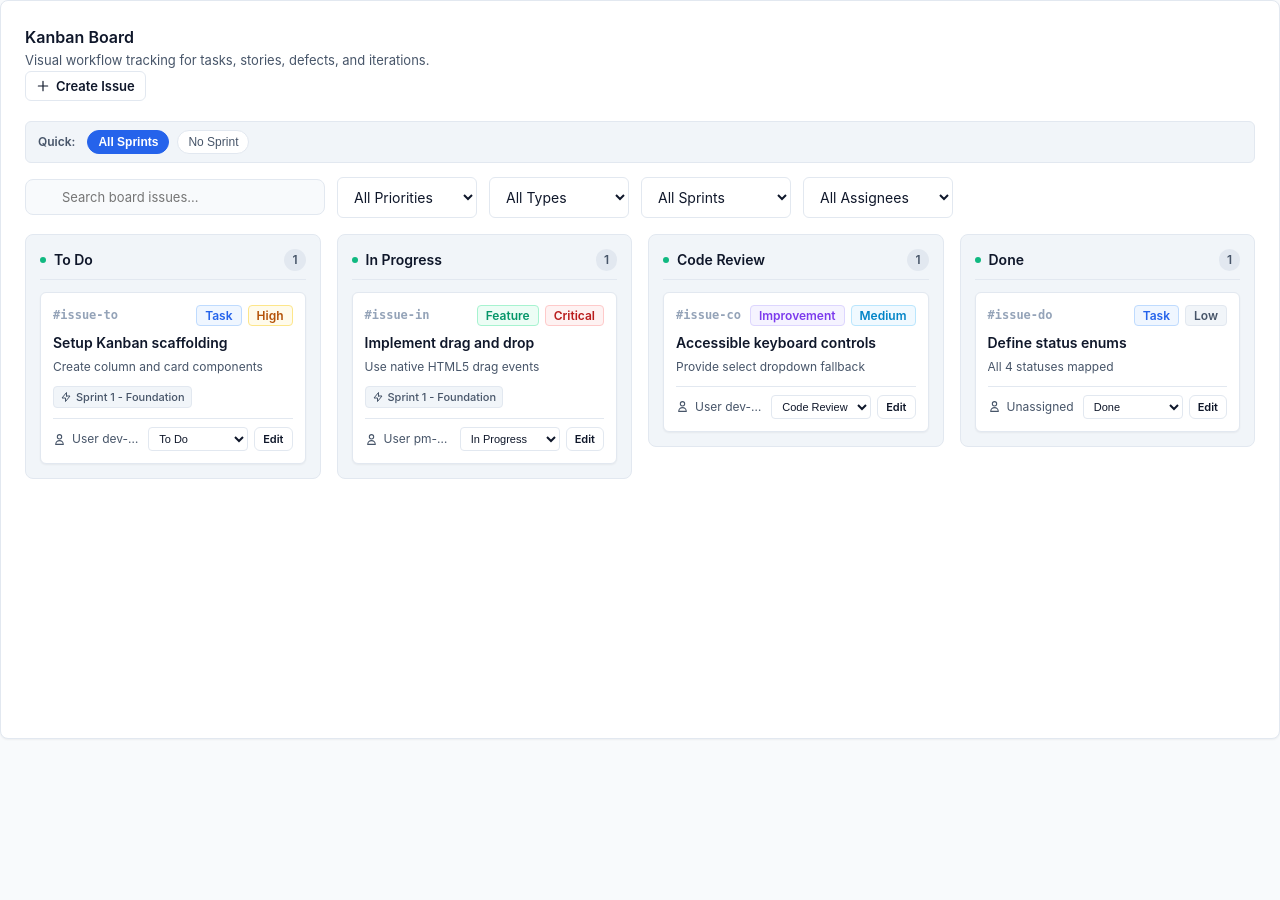
Scenario: KanbanBoard Component › reverts optimistic update and displays error when status update fails
Expected: the link "Setup Kanban scaffolding" is shown, [53,334,228,351]
Select "Done" in the dropdown named "move issue setup kanban scaffolding to status": (198, 440) [148,428,248,452]
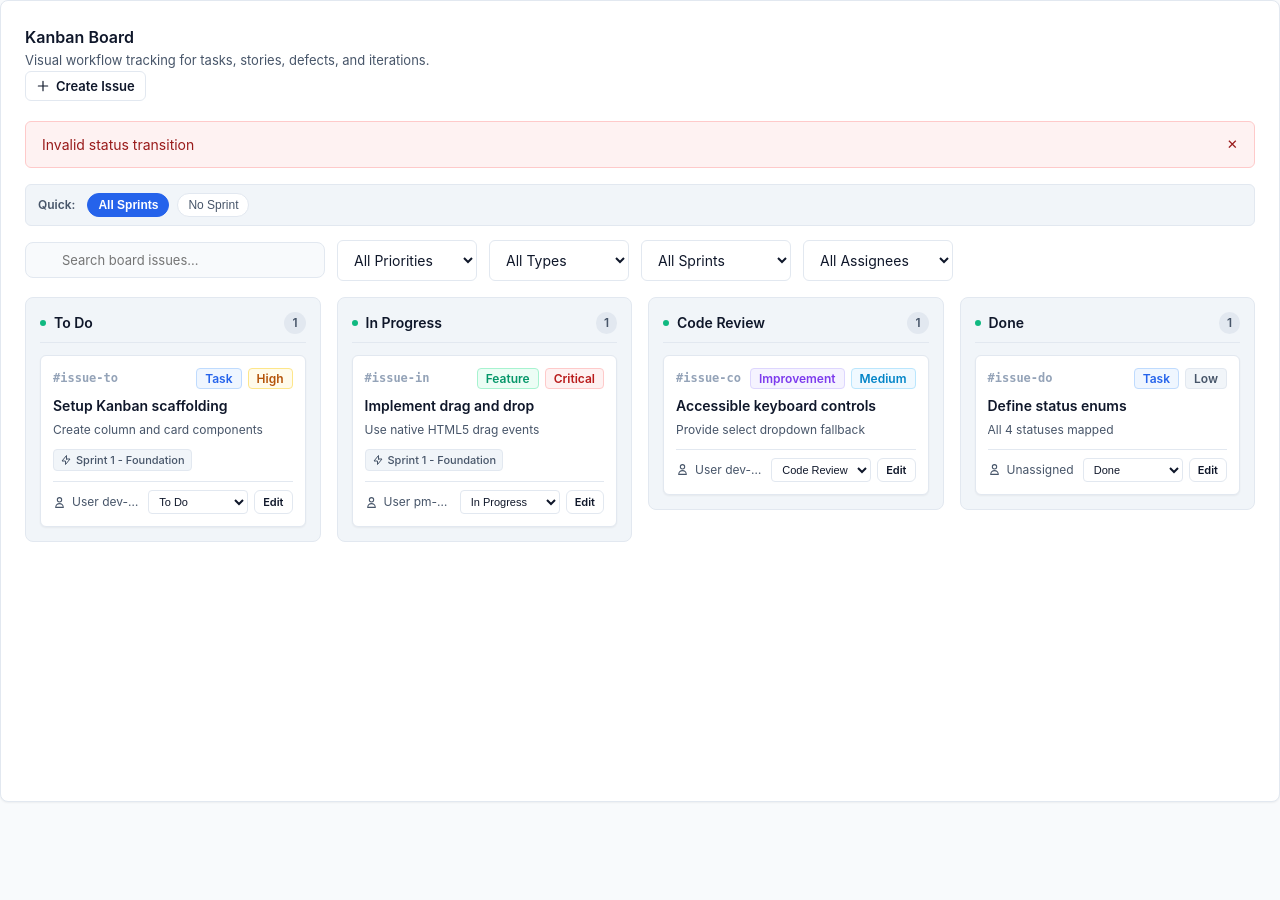
Expected: the dropdown named "move issue setup kanban scaffolding to status" shows "To Do", [148,490,248,514]
Now the text "Invalid status transition" is shown, box [42,134,194,154]
